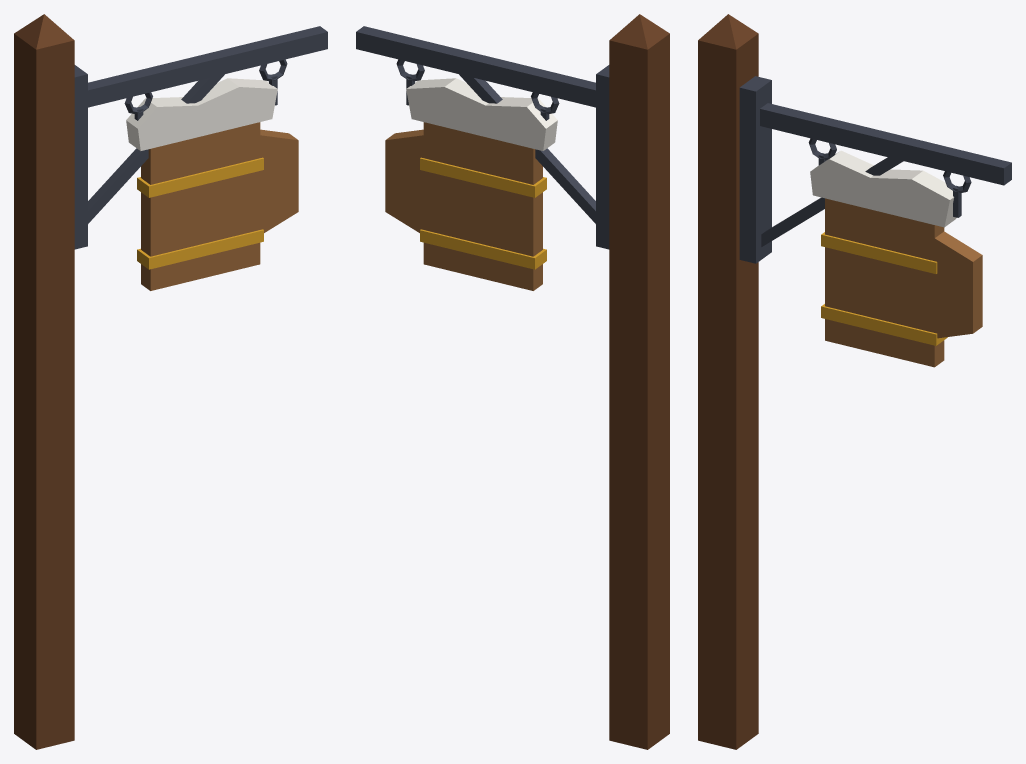
File: sign-inn.glb
The picture shows the model from 3 angles, left to right: view 1: azimuth 30°, elevation 25°; view 2: azimuth 150°, elevation 25°; view 3: azimuth 330°, elevation 25°; orthographic projection.
Parts seen in each view (by area): view 1: Sign post, Sign tankard, Sign bracket, Sign foam, Sign hoops; view 2: Sign post, Sign tankard, Sign bracket, Sign foam, Sign hoops; view 3: Sign post, Sign tankard, Sign bracket, Sign foam, Sign hoops.
Boxes of the visible parts, x1,y1,x2,y2 form: Sign post: [14, 14, 74, 749]; Sign tankard: [141, 122, 298, 290]; Sign bracket: [74, 26, 327, 249]; Sign foam: [126, 78, 277, 150]; Sign hoops: [137, 157, 263, 269]; Sign post: [609, 14, 669, 749]; Sign tankard: [385, 122, 542, 290]; Sign bracket: [356, 26, 609, 249]; Sign foam: [406, 78, 557, 150]; Sign hoops: [420, 157, 546, 269]; Sign post: [698, 14, 758, 749]; Sign tankard: [825, 198, 982, 367]; Sign bracket: [739, 76, 1011, 263]; Sign foam: [810, 150, 956, 227]; Sign hoops: [821, 232, 947, 345].
Size of the model in its own units: 1.09 by 2.52 by 0.14.
